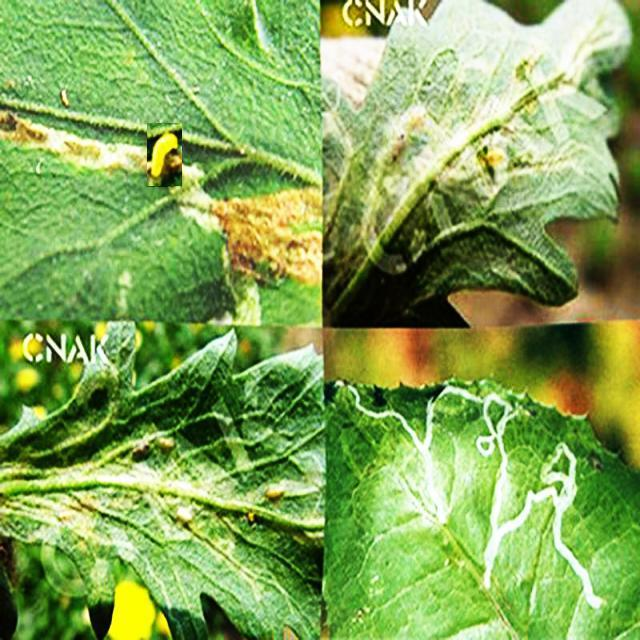whorl-maggot: (147, 124, 182, 188)
